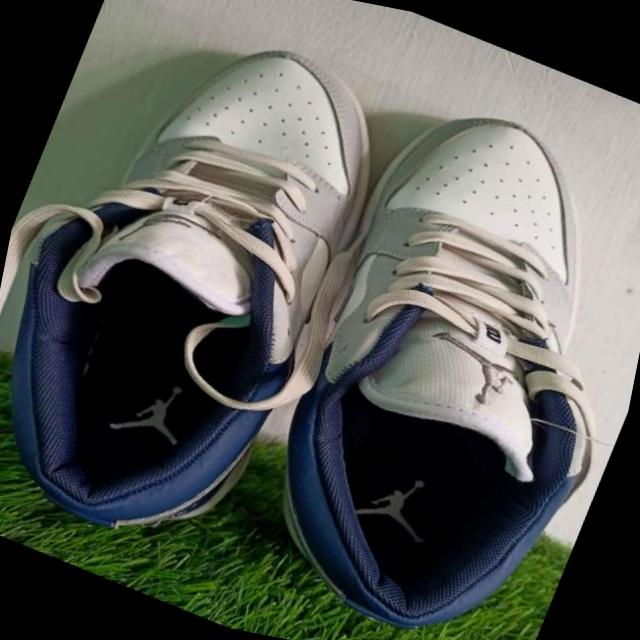nike_fake_jordan: (0, 0, 426, 591), (215, 64, 640, 640)
